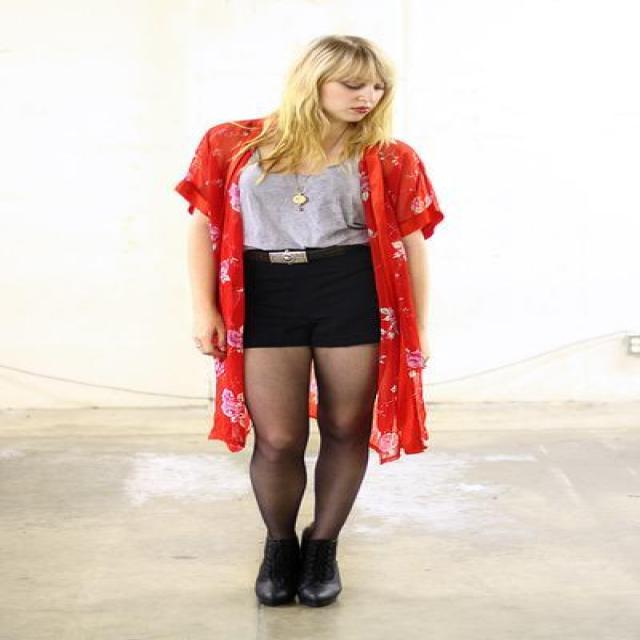jacket: (176, 119, 442, 463)
shirt: (229, 166, 371, 248)
shoe: (258, 524, 342, 586)
skirt: (244, 263, 382, 370)
